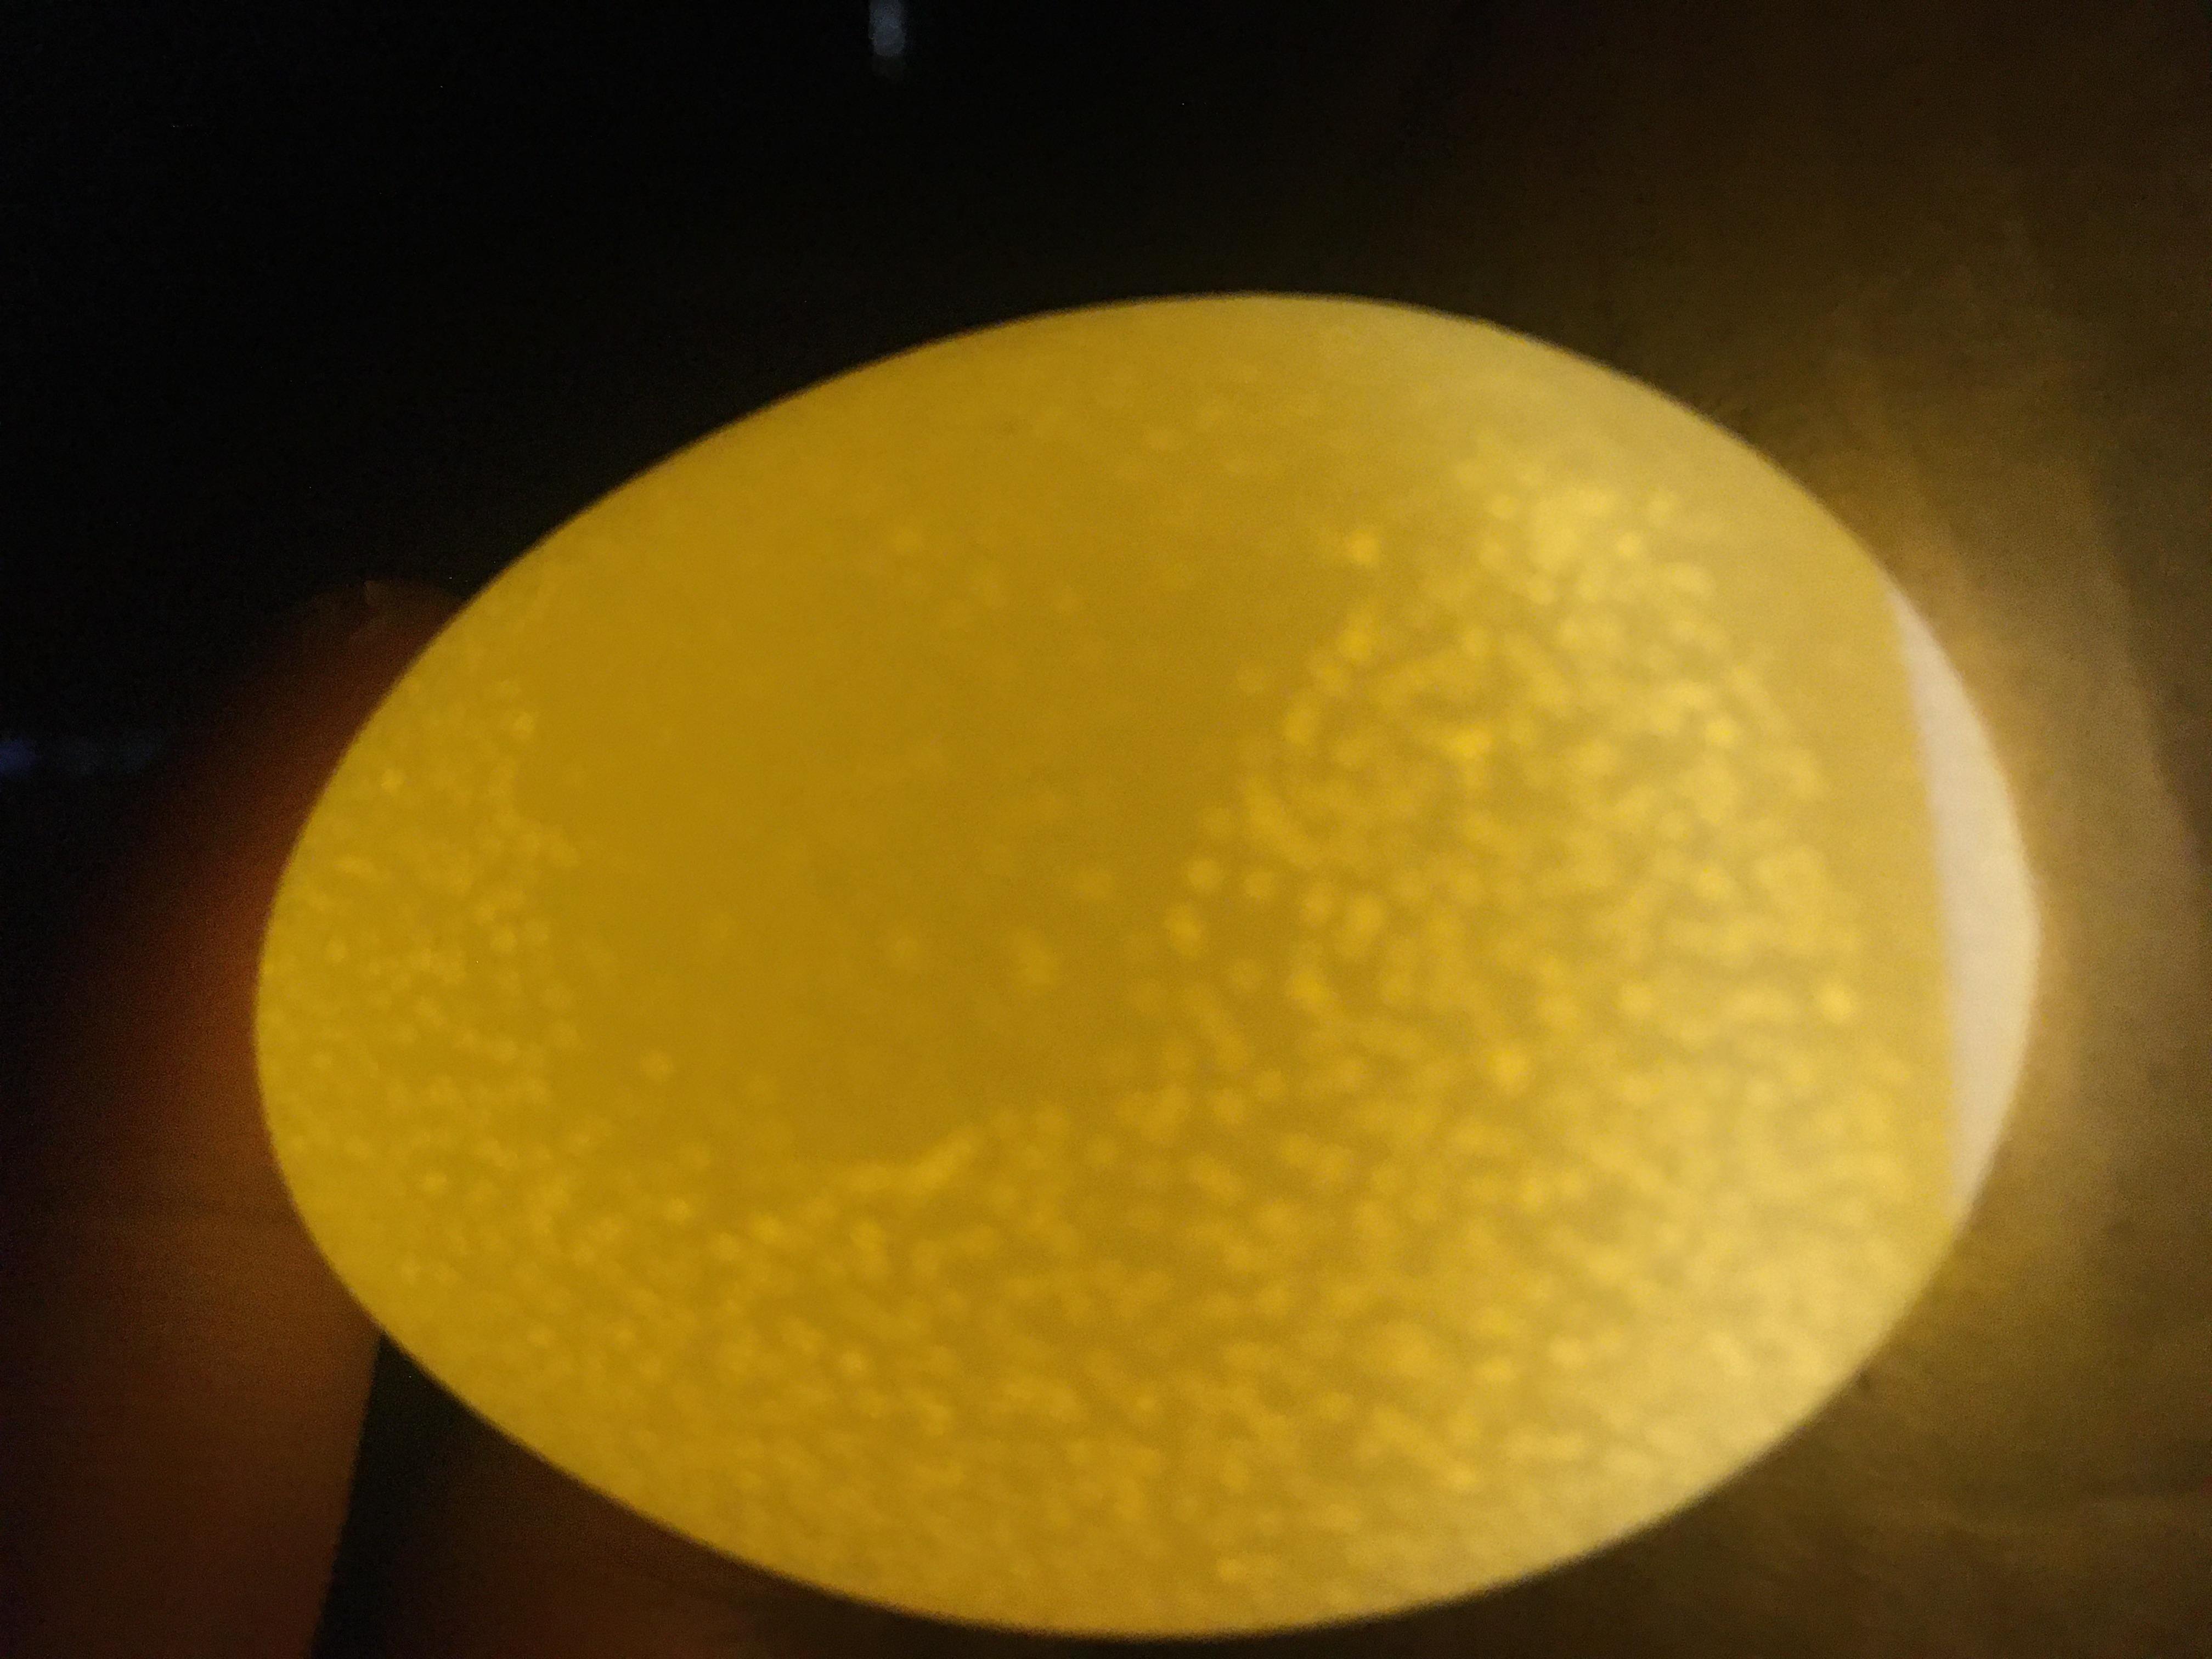AA - Premium: (7, 181, 1825, 1539)
